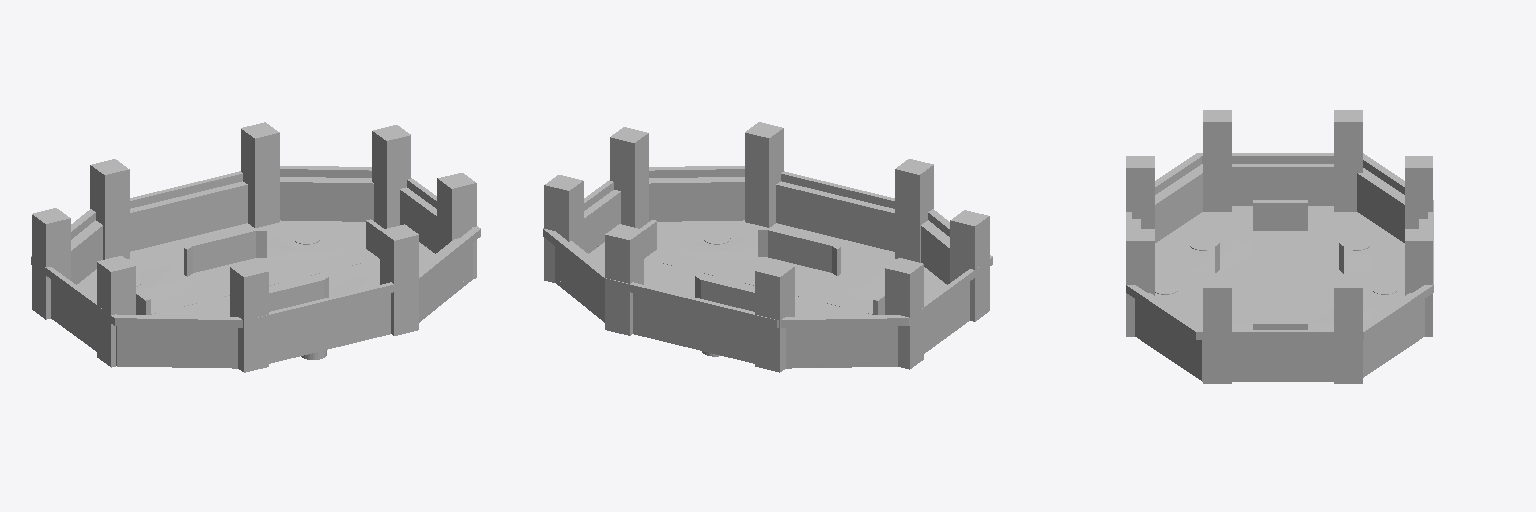
The model's file is arena1.obj.
The picture shows the model from 3 angles: view 1: azimuth 30°, elevation 25°; view 2: azimuth 150°, elevation 25°; view 3: azimuth 270°, elevation 25°; orthographic projection.
Parts seen in each view (by area): view 1: main_Cube.004, top_pillar_Cube.001, side_pillar_Cube.003, longwall_Cube.012, shortwall_Cube.015; view 2: main_Cube.004, top_pillar_Cube.001, side_pillar_Cube.003, longwall_Cube.012, shortwall_Cube.015; view 3: main_Cube.004, side_pillar_Cube.003, top_pillar_Cube.001, shortwall_Cube.015, longwall_Cube.012.
Part boxes in pixels (left/top/right/bottom): main_Cube.004: left=31, top=166, right=480, bottom=368; top_pillar_Cube.001: left=90, top=122, right=418, bottom=372; side_pillar_Cube.003: left=32, top=125, right=476, bottom=367; longwall_Cube.012: left=184, top=228, right=328, bottom=311; shortwall_Cube.015: left=136, top=219, right=383, bottom=314; main_Cube.004: left=543, top=166, right=992, bottom=368; top_pillar_Cube.001: left=605, top=122, right=933, bottom=372; side_pillar_Cube.003: left=544, top=127, right=989, bottom=369; longwall_Cube.012: left=695, top=228, right=840, bottom=311; shortwall_Cube.015: left=640, top=220, right=884, bottom=314; main_Cube.004: left=1126, top=153, right=1433, bottom=381; side_pillar_Cube.003: left=1203, top=110, right=1362, bottom=383; top_pillar_Cube.001: left=1126, top=156, right=1432, bottom=336; shortwall_Cube.015: left=1253, top=200, right=1307, bottom=329; longwall_Cube.012: left=1209, top=243, right=1349, bottom=275.
Bounding box in the file's own units: 70.23 × 20.76 × 51.25.